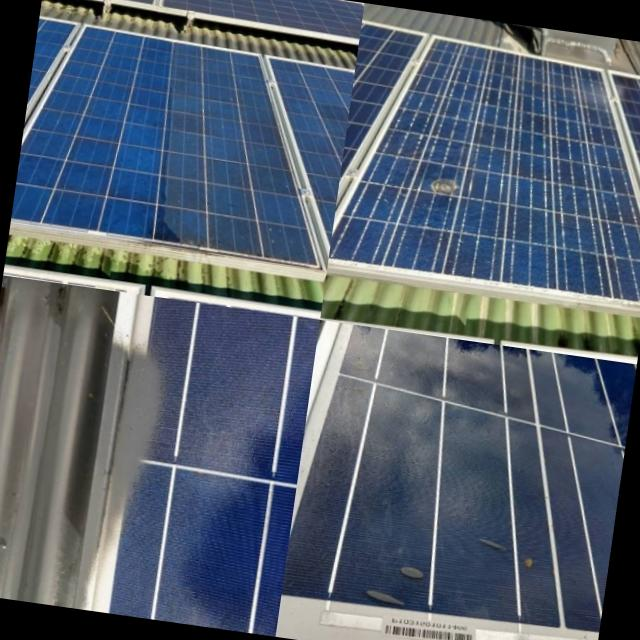faulty: (0, 281, 307, 635), (334, 35, 640, 306), (14, 32, 310, 268), (353, 513, 552, 631)
